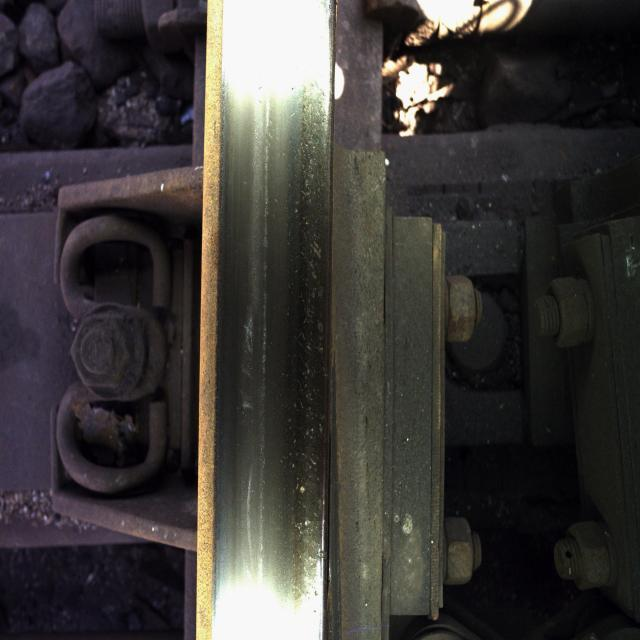normal: (229, 51, 326, 582)
